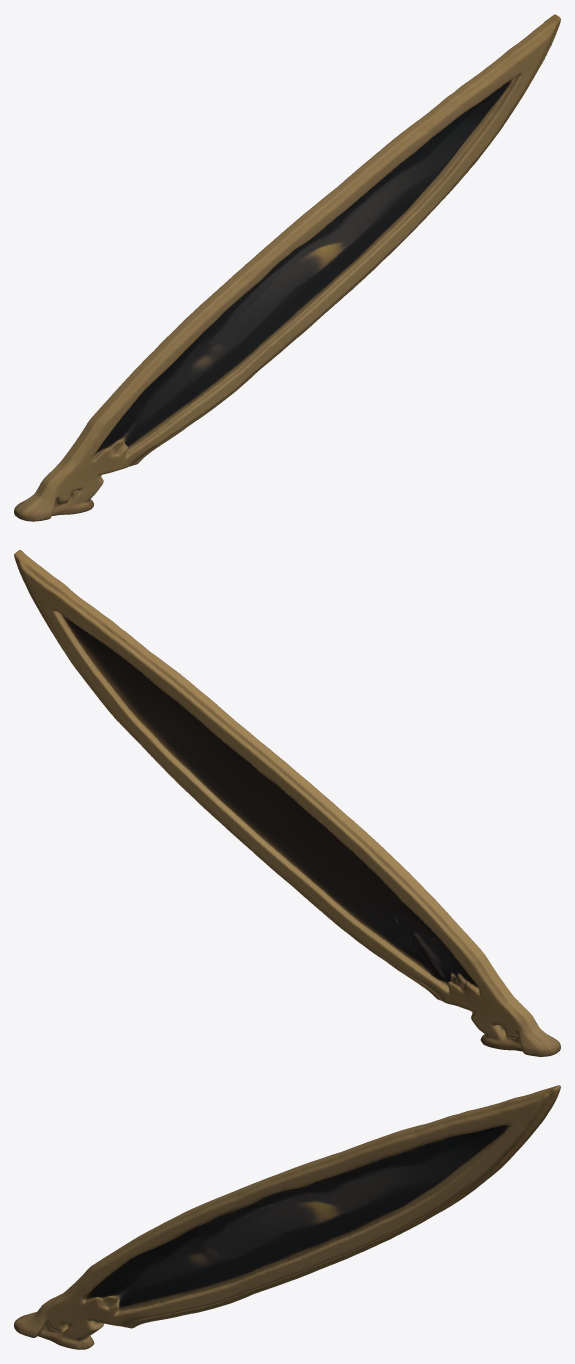
The model's file is ear_single_ref-2.glb.
3 renders of one model, top to bottom at view 1: azimuth 30°, elevation 25°; view 2: azimuth 150°, elevation 25°; view 3: azimuth 330°, elevation 25°, orthographic.
Bounding box in the file's own units: 1 × 0.6631 × 0.0549.
1 material, 1 textured.
